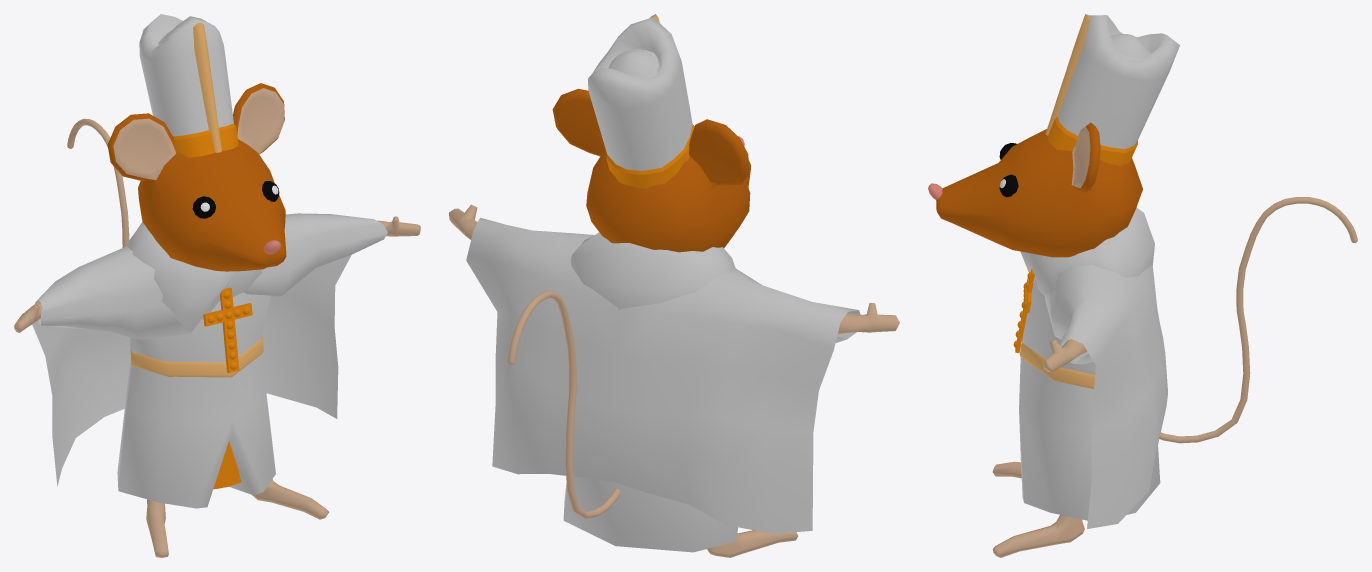
File: dorime.gltf
3 renders of one model, left to right at view 1: azimuth 30°, elevation 25°; view 2: azimuth 150°, elevation 25°; view 3: azimuth 270°, elevation 25°, orthographic. The views are drawn at different scales.
Visible parts, largest first — view 1: pCube7; view 2: pCube7; view 3: pCube7.
Part boxes in pixels (x1,y1,x2,y2): pCube7: (14, 14, 420, 557); pCube7: (449, 14, 899, 557); pCube7: (928, 14, 1357, 557).
Size of the model in its own units: 1.59 by 1.81 by 1.41.
1 material, 1 textured.
